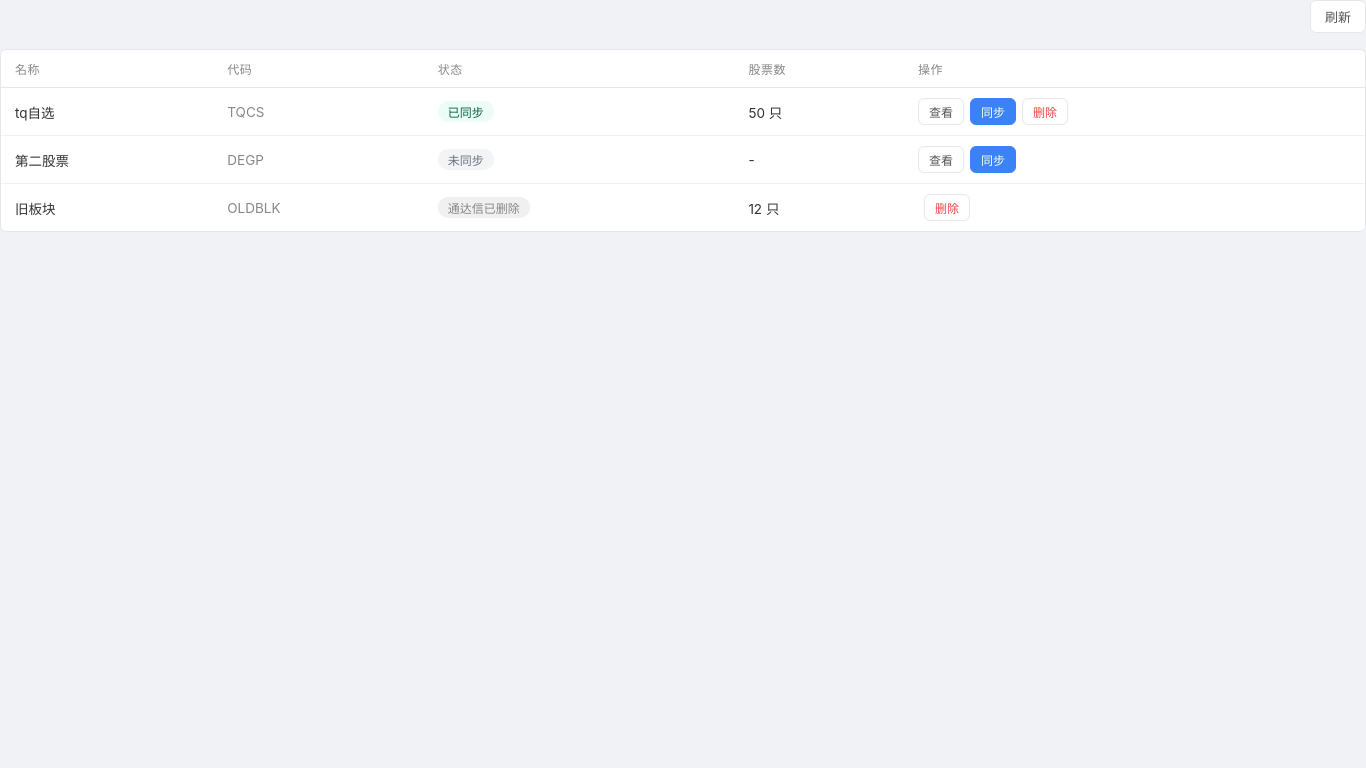
StockPools.vue › 点某行[查看] → 调 getTdxPoolStocks(code) 并弹成分股清单
Click the button "查看" in the row of "tq自选": (941, 112) left=918, top=98, right=964, bottom=125
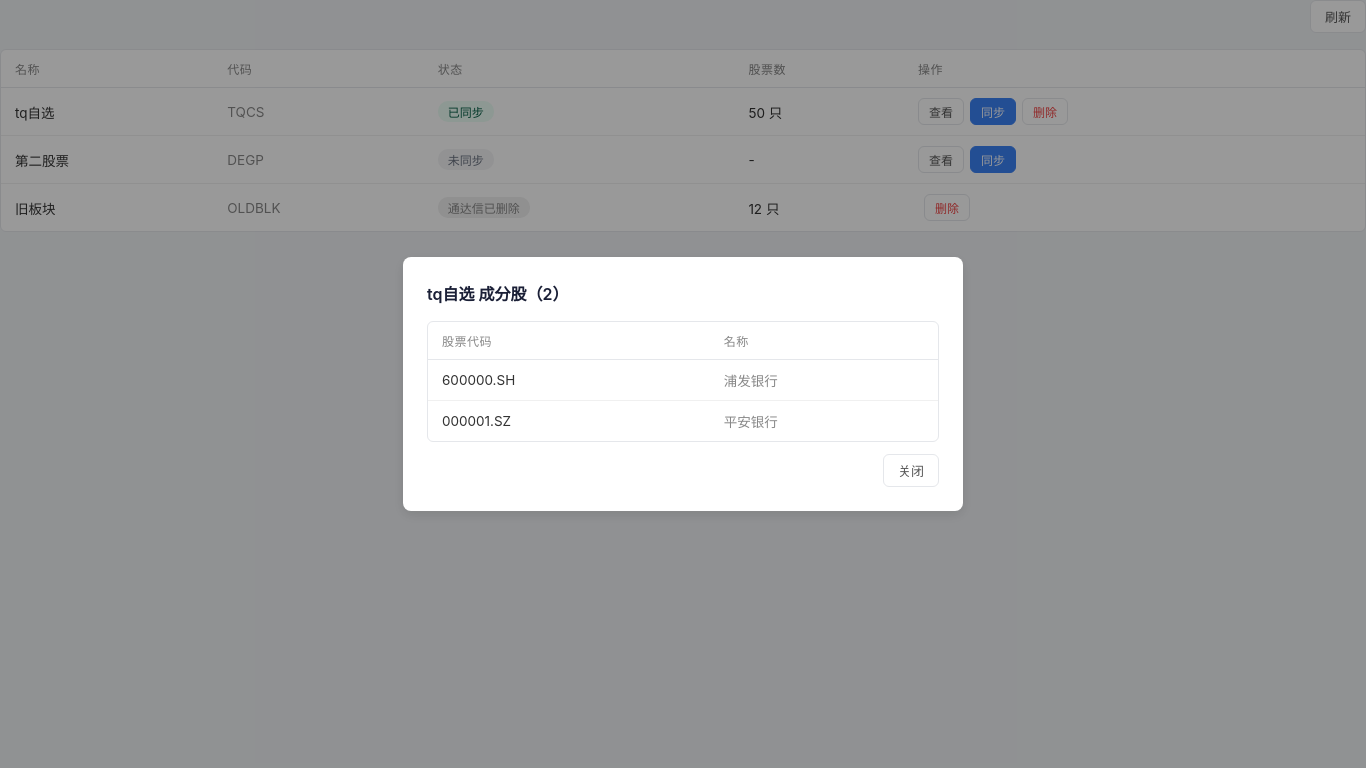
Expected: the cell "TQCS" is shown, left=213, top=88, right=424, bottom=136
Expected: the text "600000.SH" is shown, left=428, top=360, right=710, bottom=400
Expected: the text "浦发银行" is shown, left=710, top=360, right=938, bottom=400
